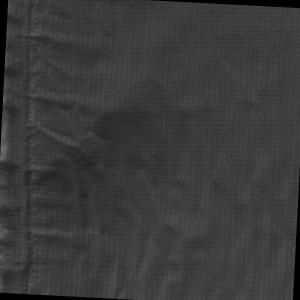Wrinkle: (1, 87, 122, 193), (7, 5, 122, 67), (1, 220, 90, 253)
